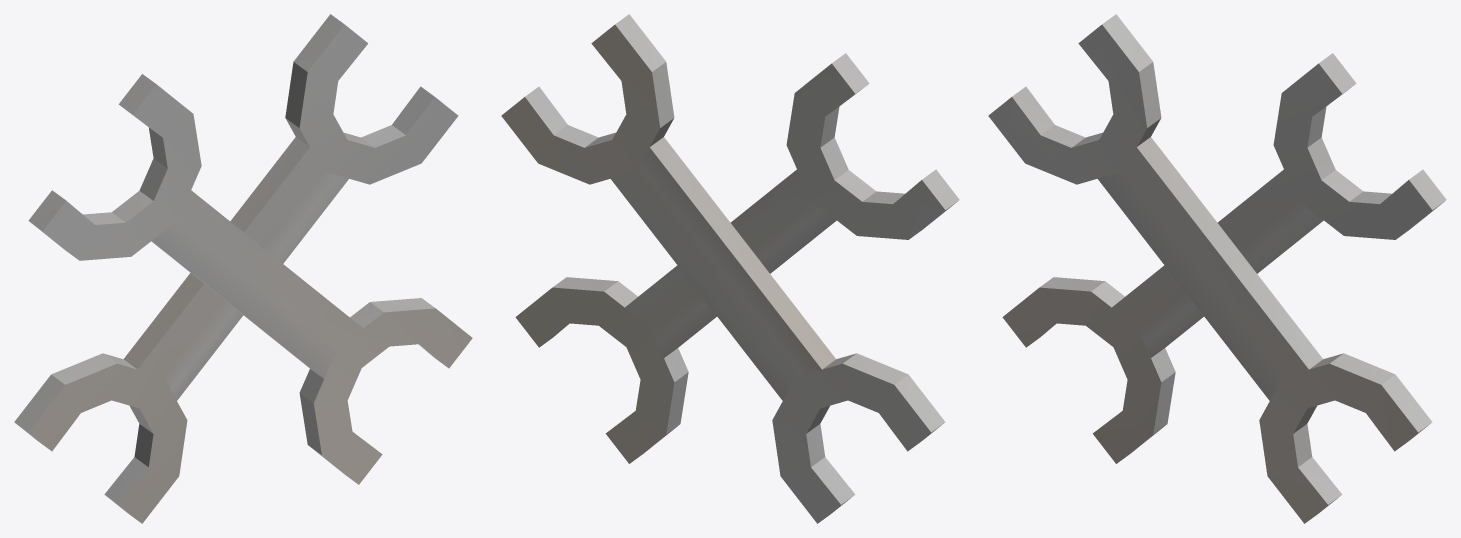
File: car_fixer1.fbx
The picture shows the model from 3 angles, left to right: view 1: azimuth 30°, elevation 25°; view 2: azimuth 150°, elevation 25°; view 3: azimuth 330°, elevation 25°; orthographic projection.
Visible parts, largest first — view 1: car_fixer1; view 2: car_fixer1; view 3: car_fixer1.
Boxes of the visible parts, left/top/right/bottom form: car_fixer1: left=14, top=14, right=472, bottom=523; car_fixer1: left=501, top=14, right=959, bottom=523; car_fixer1: left=988, top=14, right=1446, bottom=523.
Bounding box in the file's own units: 1.74 × 1.74 × 0.2.
